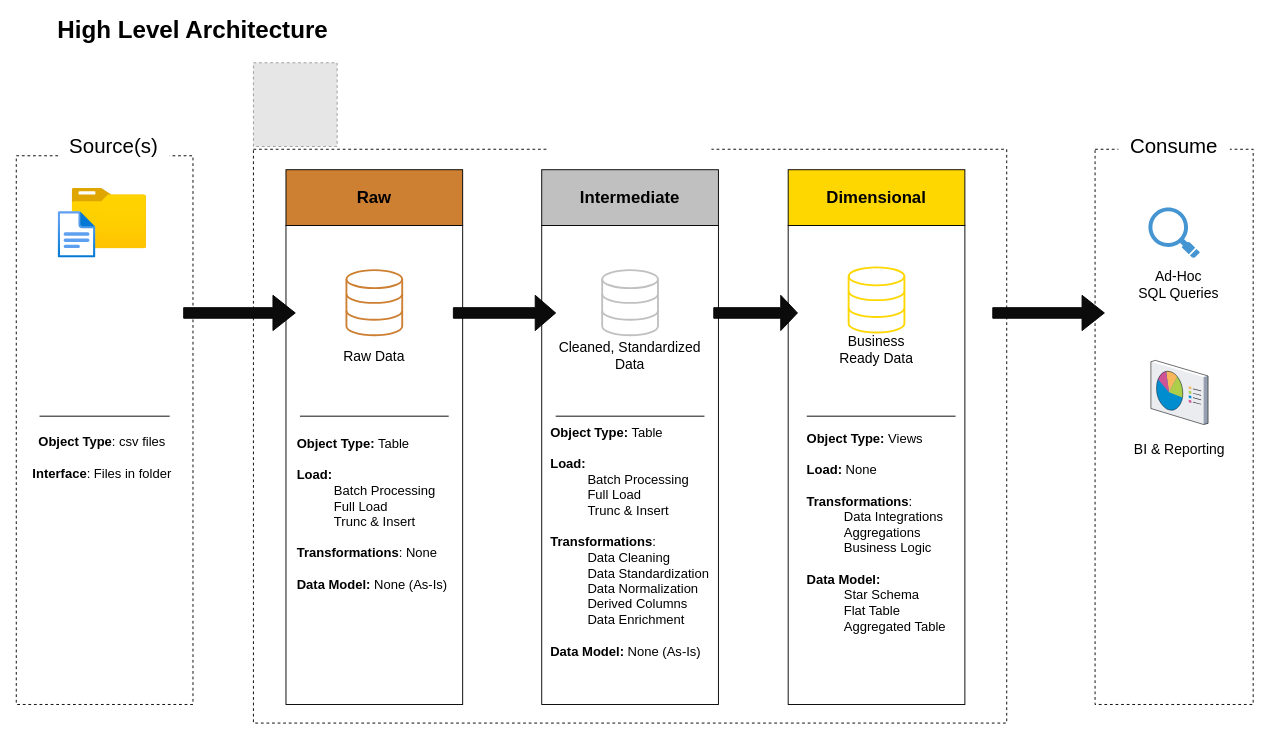
This 1269x739 diagram has some shape labels left out. Grey dashed boxes stand in for pictures. The centre of each missing label's shape, as x and y in pixels:
Data Warehouse: the point at 629,146
Tmart DB: the point at 76,234
